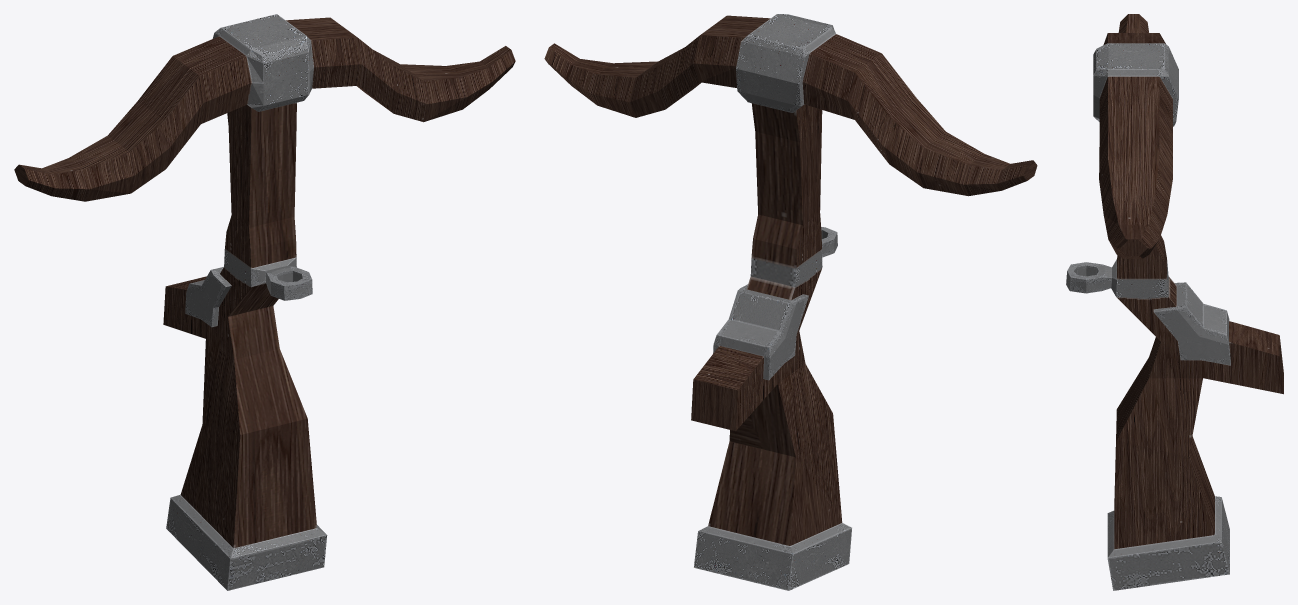
The model's file is Wooden Cross bow.fbx.
The picture shows the model from 3 angles, left to right: view 1: azimuth 30°, elevation 25°; view 2: azimuth 150°, elevation 25°; view 3: azimuth 270°, elevation 25°; orthographic projection. The views are drawn at different scales.
Parts seen in each view (by area): view 1: Wooden_Cross_bow; view 2: Wooden_Cross_bow; view 3: Wooden_Cross_bow.
Part boxes in pixels (x1,y1,x2,y2): Wooden_Cross_bow: (14, 14, 515, 590); Wooden_Cross_bow: (544, 14, 1037, 590); Wooden_Cross_bow: (1066, 14, 1283, 590).
Size of the model in its own units: 190 by 201 by 77.26.
